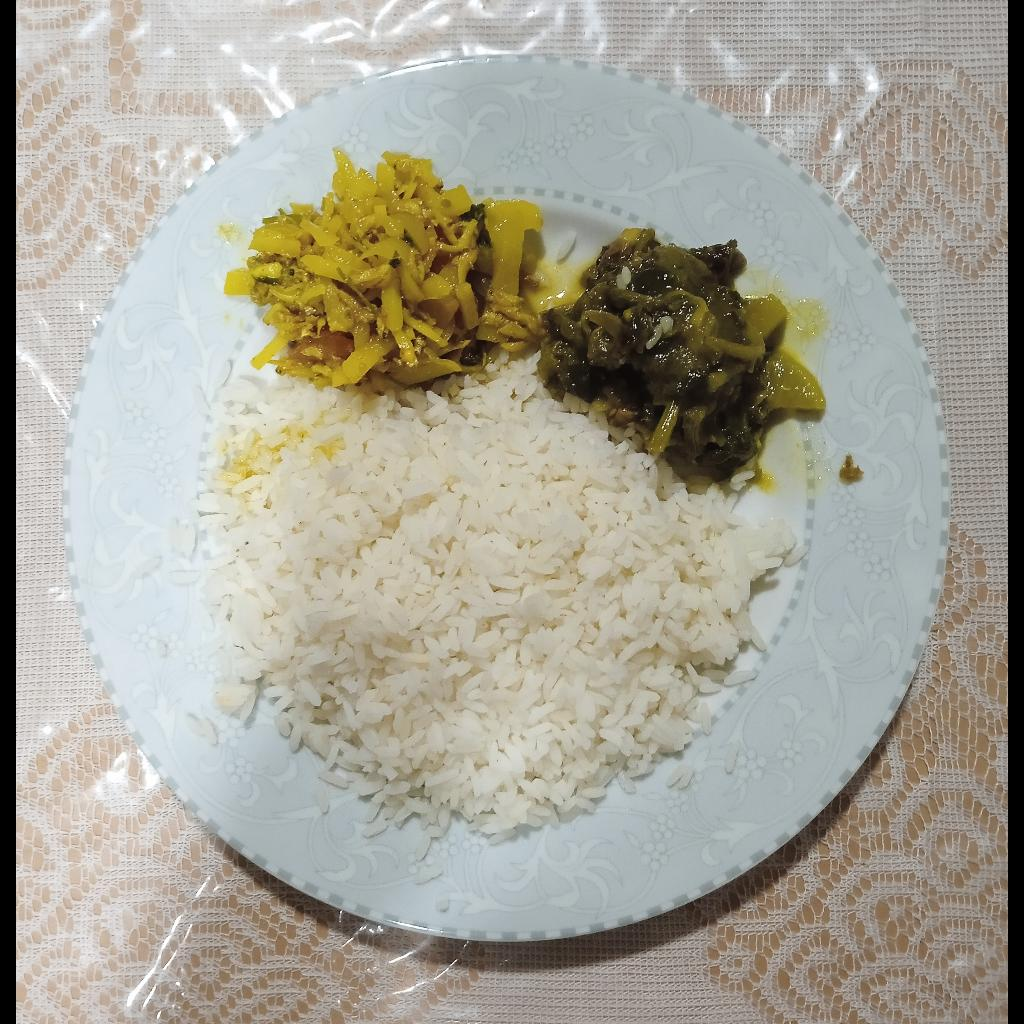rice: (178, 351, 808, 860)
shak: (532, 227, 826, 475)
vegetable: (226, 145, 544, 386)
